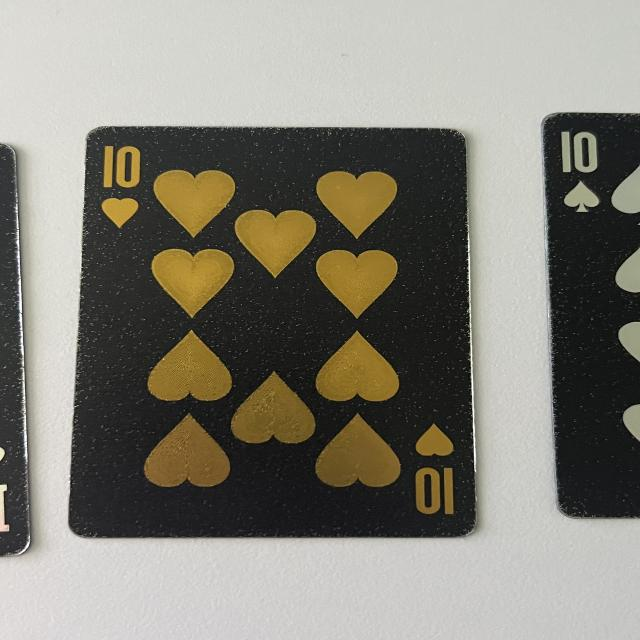10H: (408, 422, 464, 518), (98, 138, 145, 234)
10S: (545, 124, 611, 216)
